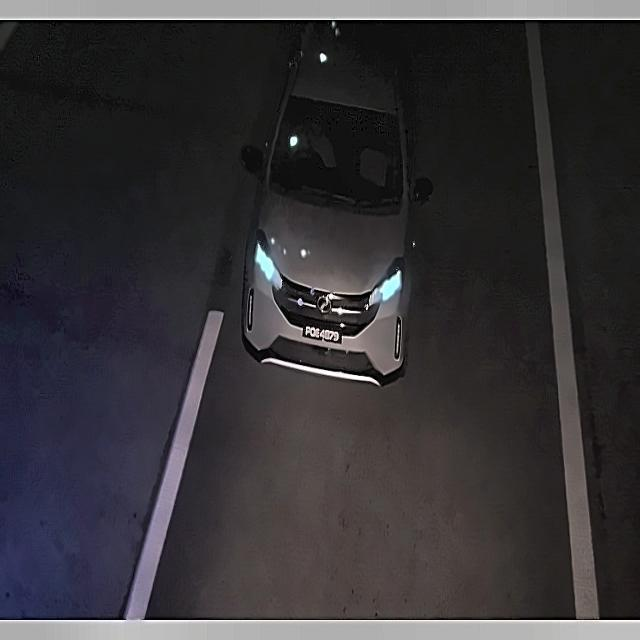car: (300, 319, 344, 348)
